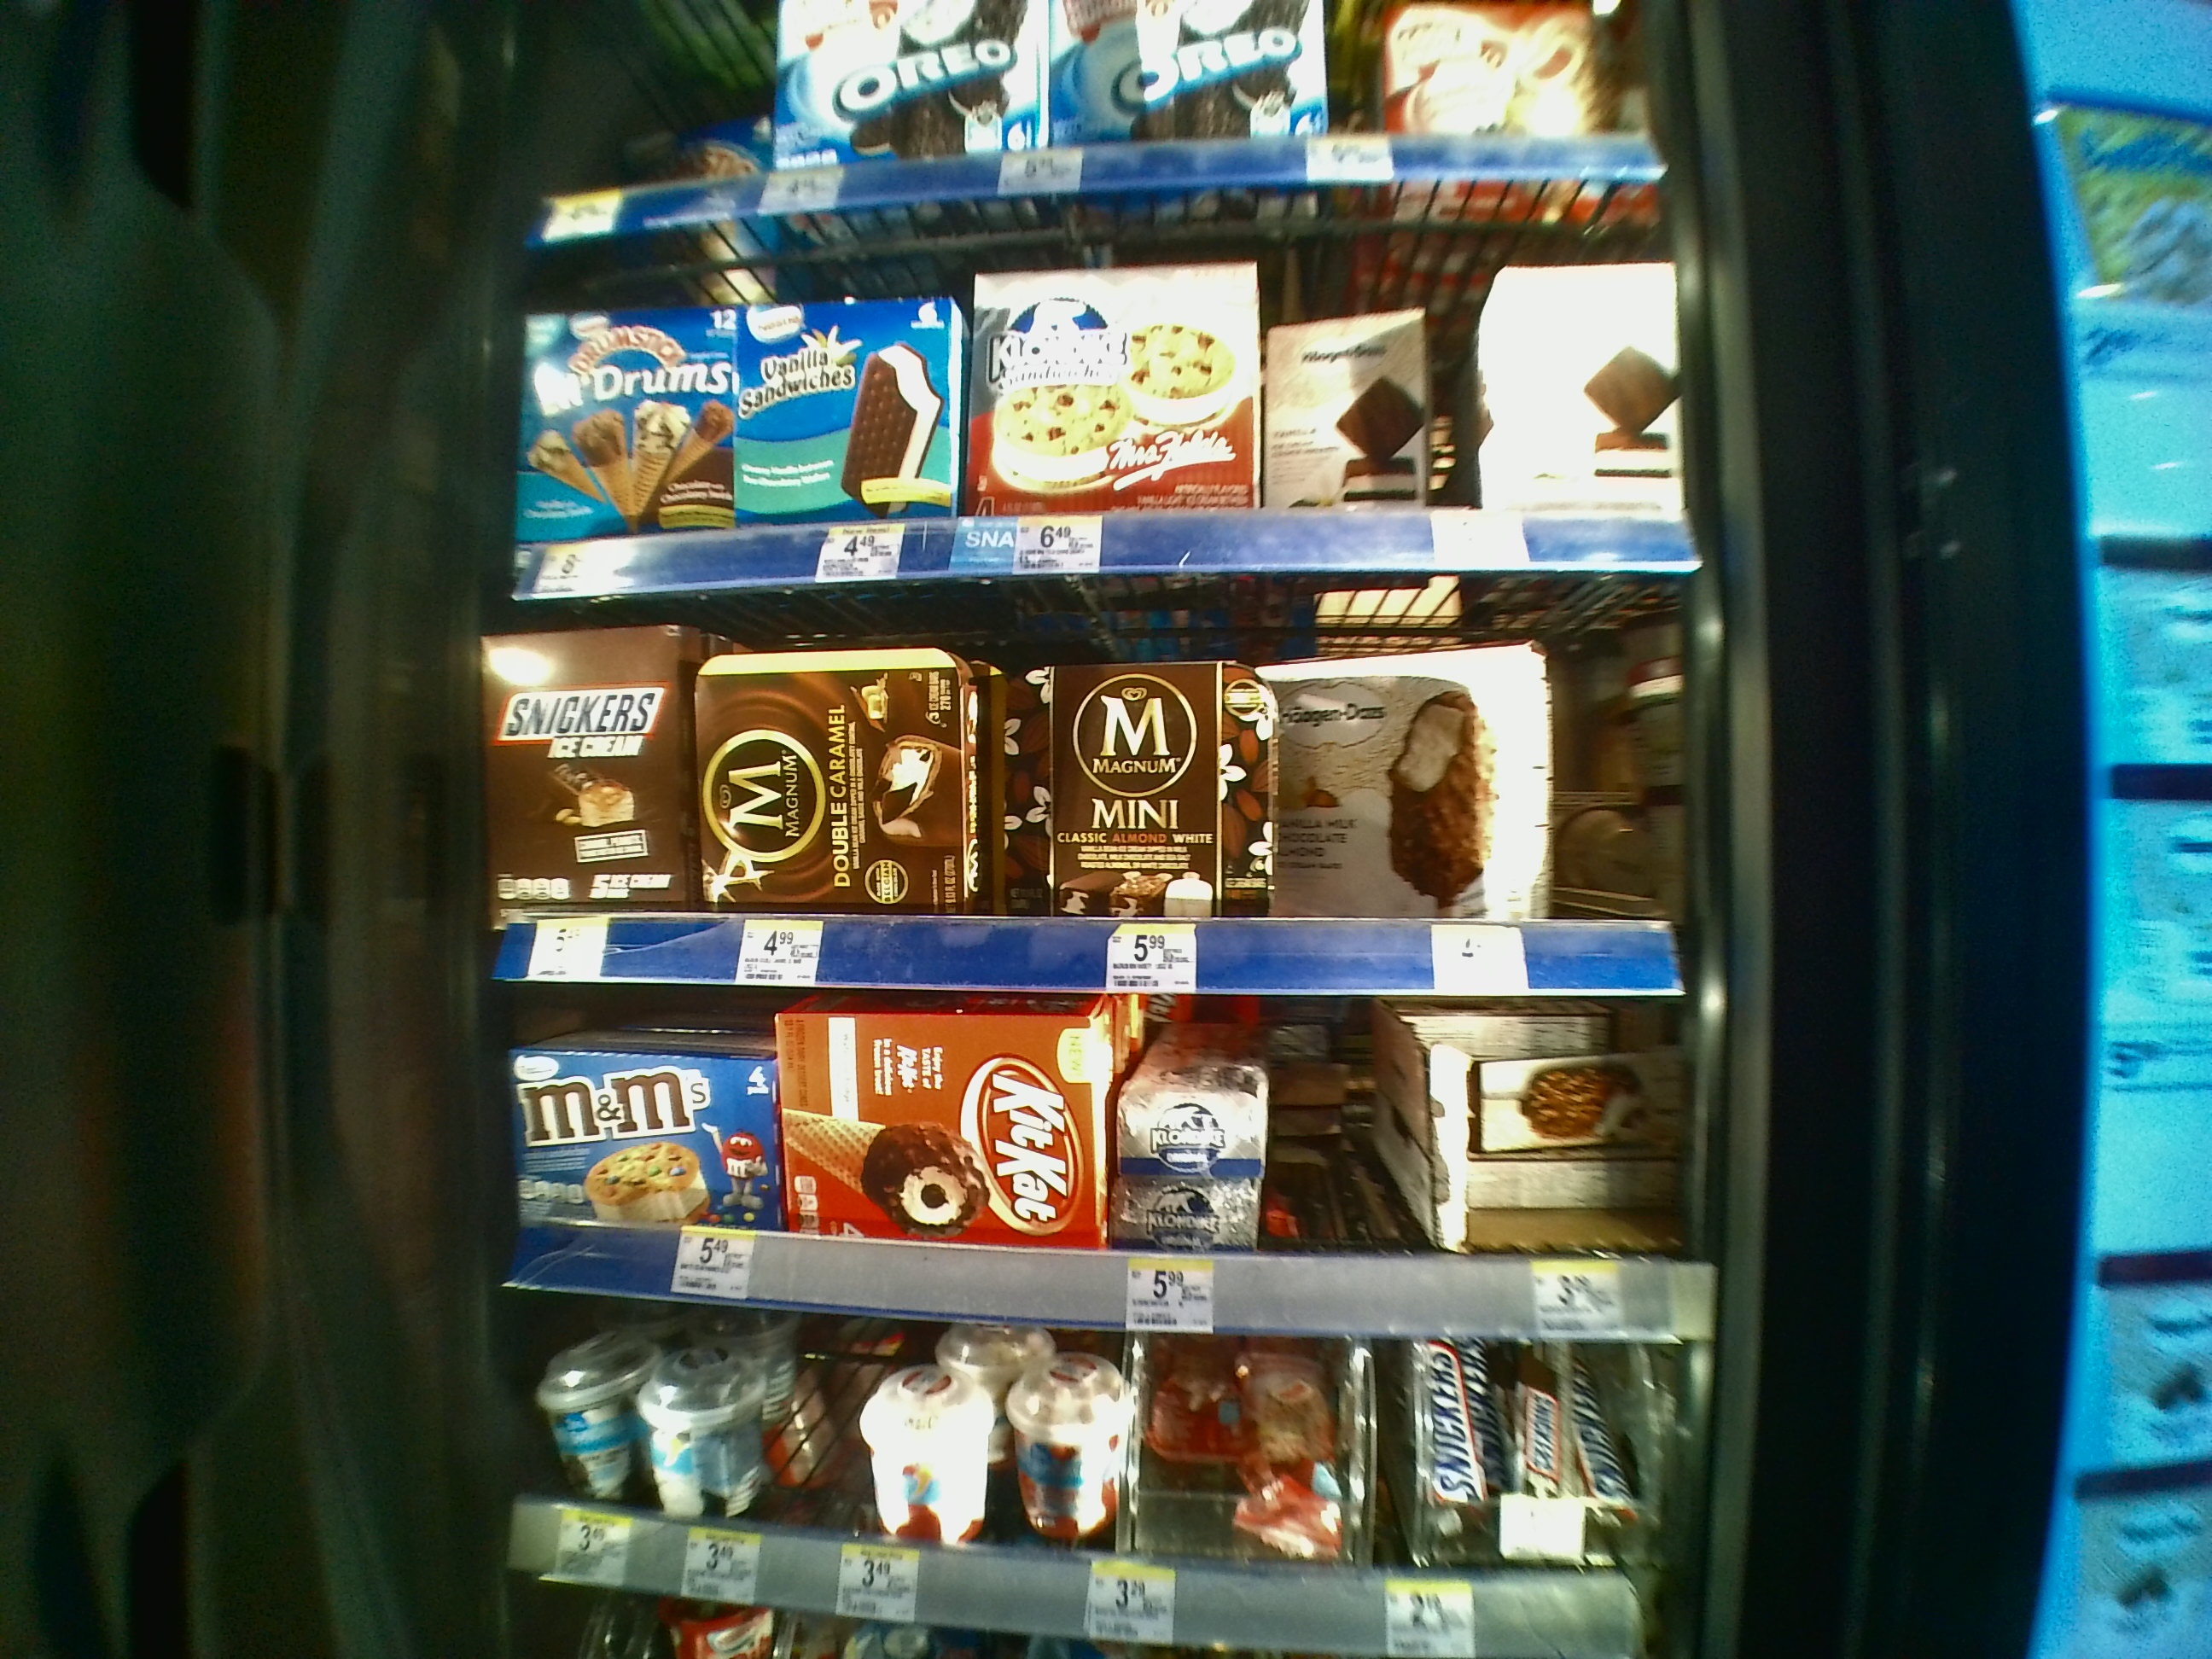shelf: (489, 598, 1689, 988), (500, 1004, 1702, 1349), (517, 239, 1669, 579)
